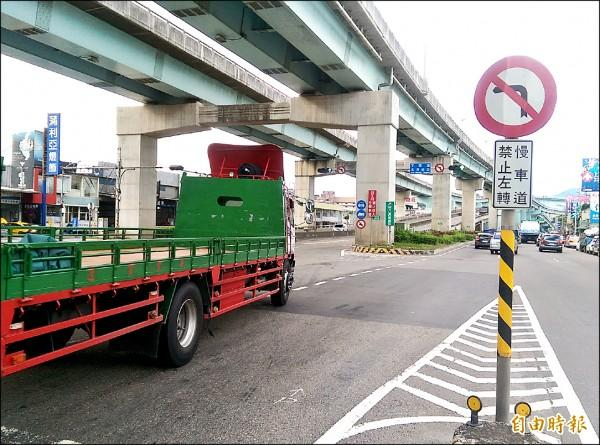no_left_turn: (471, 54, 556, 136)
